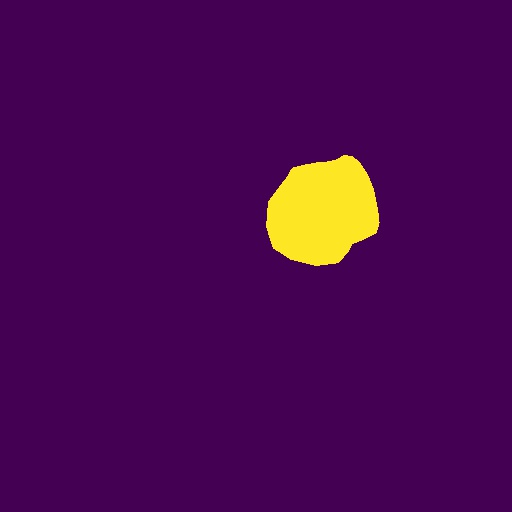Gliomia_tumour: (266, 155, 380, 266)
